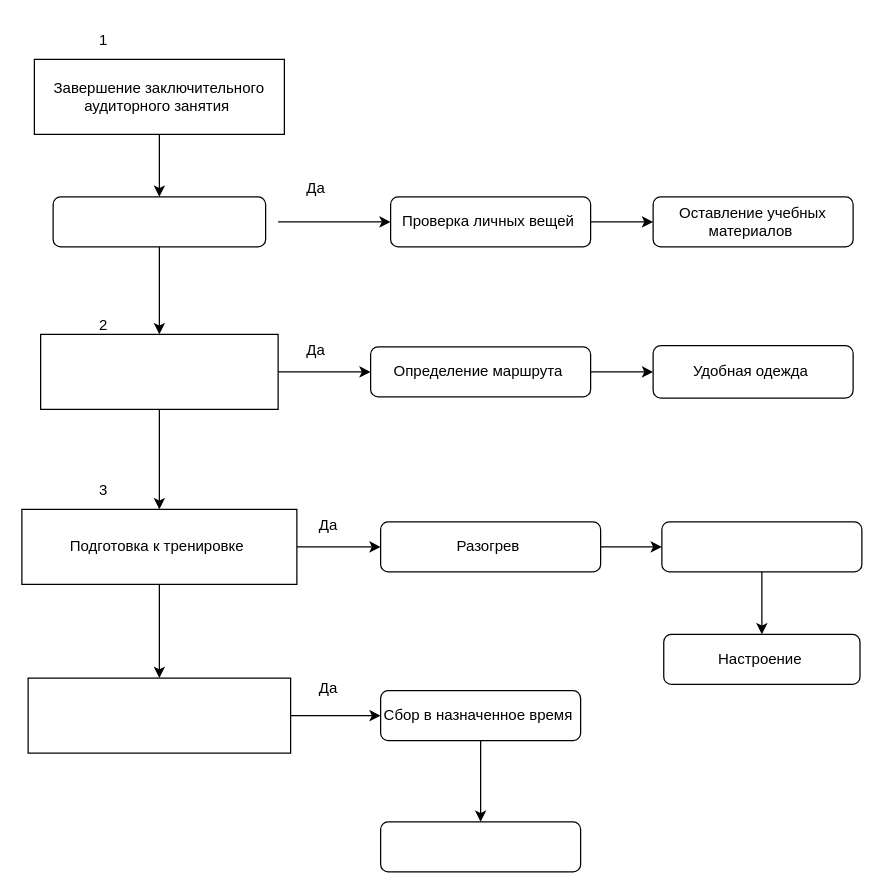
The diagram is 884 pixels wide and 894 high, and some of its shapes have lost their labels. Each missing label, with the centre of its shape:
Гидратация: point (761, 546)
Готовность к тренировке: point (480, 846)
Переход к месту подготовки: point (158, 371)
Сбор учебных материалов: point (159, 221)
Явка на построение: point (159, 715)
